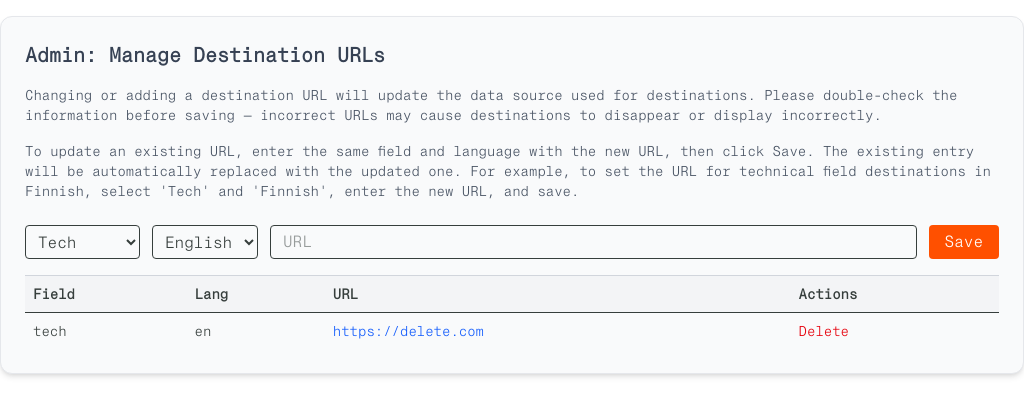
Test: DestinationAdminPanel › allows deleting a URL
Check: the link "https://delete.com" is shown, box [333, 323, 484, 339]
Click the button "Delete".
click(824, 331)  # box [799, 321, 849, 341]
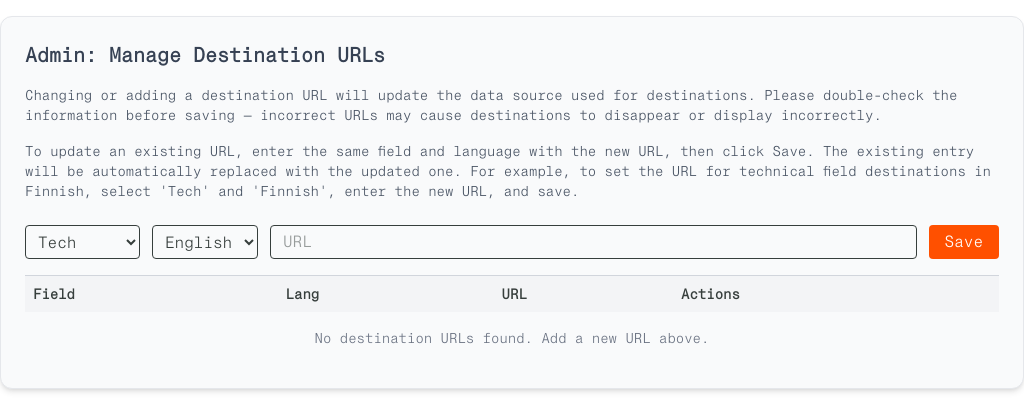
Check: the link "https://delete.com" is gone
